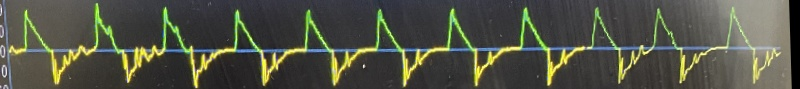hydrop_flow: (0, 1, 786, 89)
